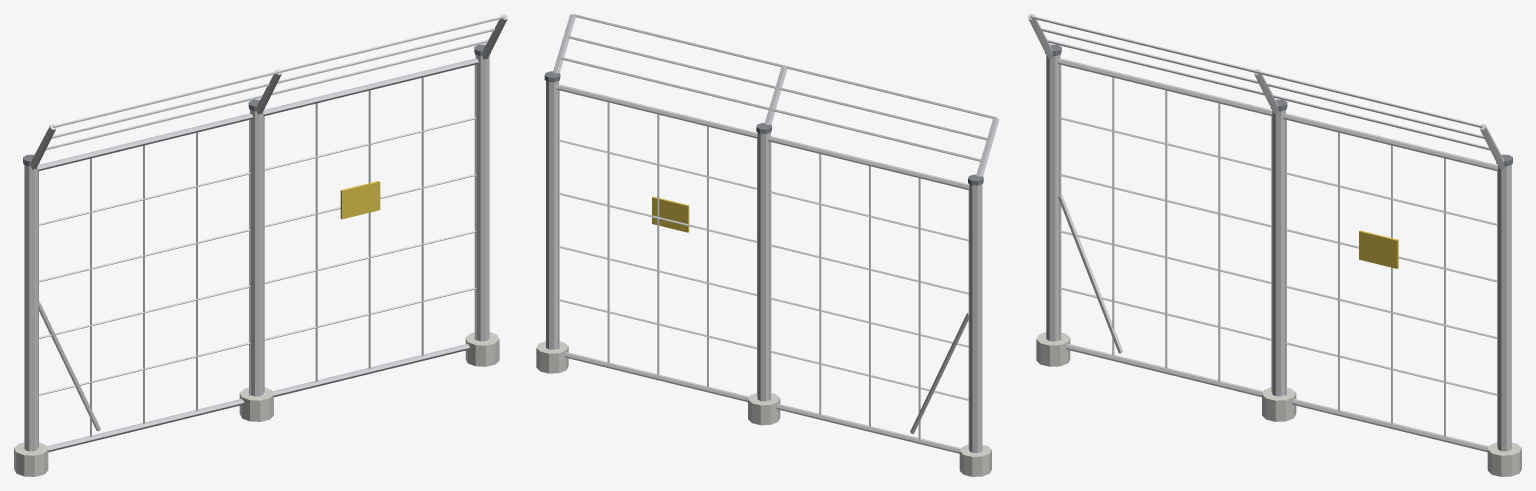
File: cold-war-missile-silo-and-command-bunker-perimeter-fen-cd8e8eff__15668.glb
The picture shows the model from 3 angles, left to right: view 1: azimuth 30°, elevation 25°; view 2: azimuth 150°, elevation 25°; view 3: azimuth 330°, elevation 25°; orthographic projection. The views are drawn at different scales.
Parts seen in each view (by area): view 1: perimeter-fence-run; view 2: perimeter-fence-run; view 3: perimeter-fence-run.
Boxes of the visible parts, x1=… form: perimeter-fence-run: x1=14, y1=14, x2=507, y2=476; perimeter-fence-run: x1=536, y1=14, x2=999, y2=476; perimeter-fence-run: x1=1028, y1=14, x2=1521, y2=476.
Bounding box in the file's own units: 4.26 × 3.05 × 0.4854.
